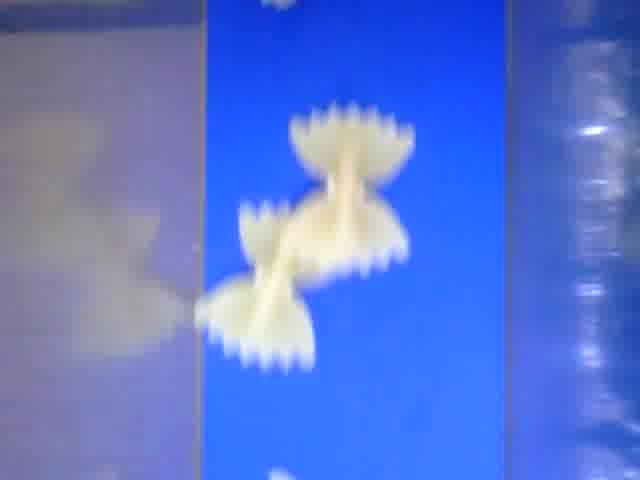farfalle: (284, 103, 420, 279), (201, 202, 333, 372)
